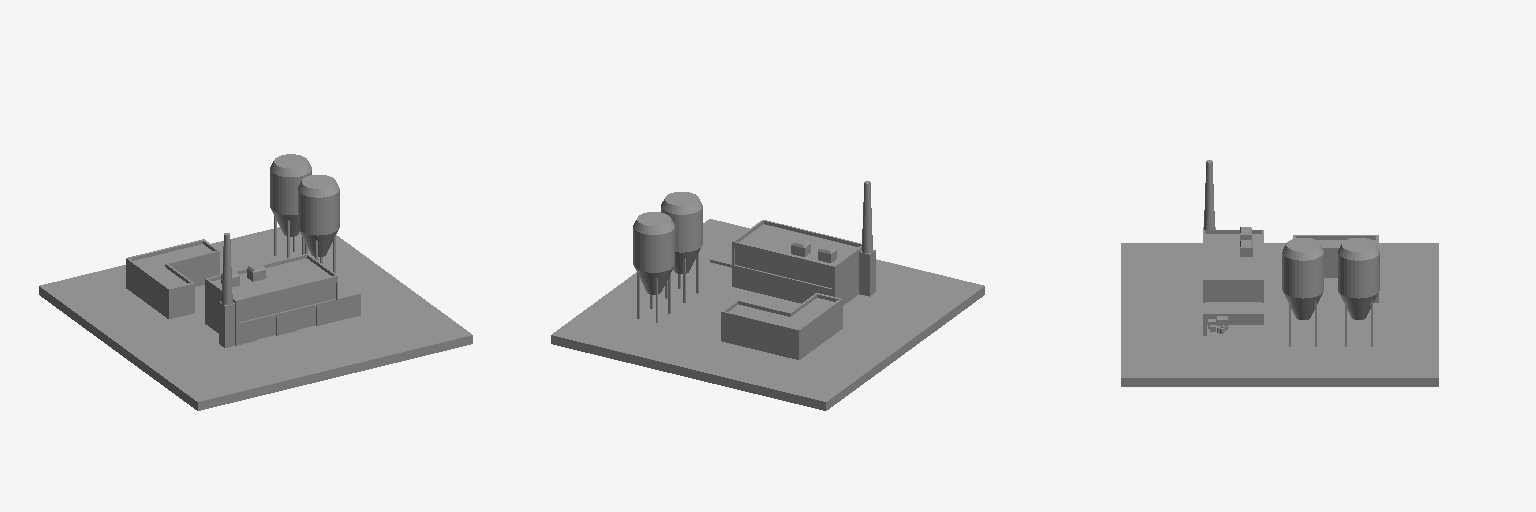
The model's file is gesamt.obj.
The picture shows the model from 3 angles: view 1: azimuth 30°, elevation 25°; view 2: azimuth 150°, elevation 25°; view 3: azimuth 270°, elevation 25°; orthographic projection.
Parts seen in each view (by area): view 1: gesamt; view 2: gesamt; view 3: gesamt.
Boxes of the visible parts, <box> form: gesamt: <box>39,154,472,410</box>; gesamt: <box>551,181,984,410</box>; gesamt: <box>1121,160,1438,386</box>.
Size of the model in its own units: 64 by 28.18 by 64.